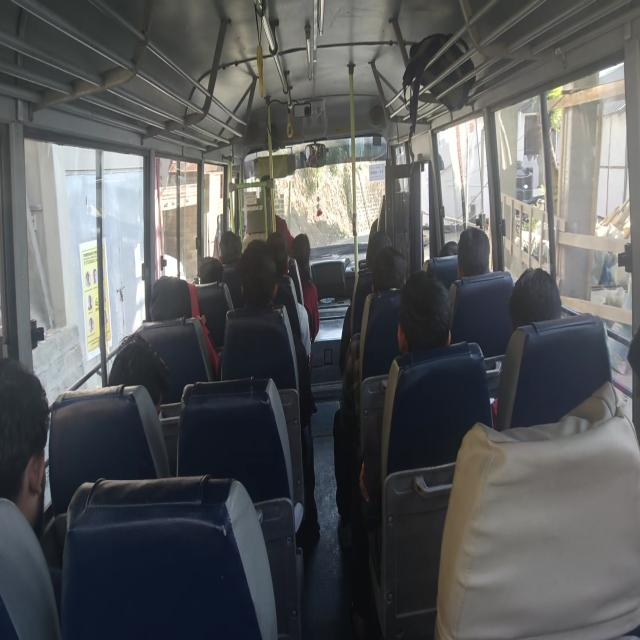person: (434, 380, 639, 638), (221, 239, 319, 539), (333, 244, 407, 547), (358, 270, 452, 506), (0, 356, 62, 638), (490, 266, 562, 426), (339, 244, 407, 374), (266, 231, 312, 366), (108, 332, 170, 416), (397, 270, 451, 354), (509, 266, 562, 332), (290, 232, 319, 342), (218, 230, 242, 308), (456, 226, 491, 278), (372, 245, 407, 291), (219, 230, 242, 266)
